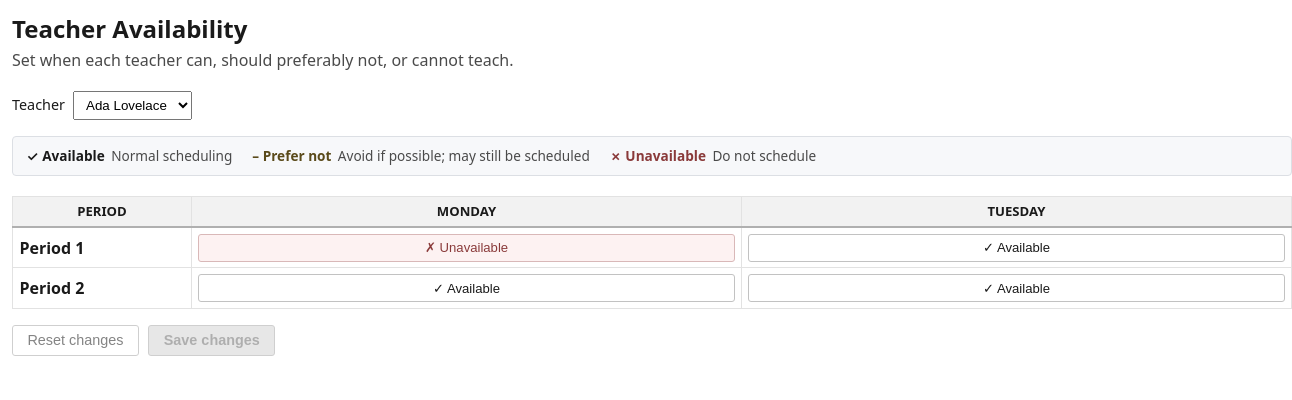
Scenario: TeacherAvailabilityPage › cycling a cell back to its authoritative state clears dirty
This screenshot has width=1292, height=400.
Expected: the dropdown labelled "Teacher" is shown, top-left (73, 91), bottom-right (192, 120)
Expected: the button "Save changes" is disabled, top-left (148, 325), bottom-right (275, 356)
Click the button with aria-label "Monday, Period 2.": (466, 288) top-left (198, 274), bottom-right (735, 302)
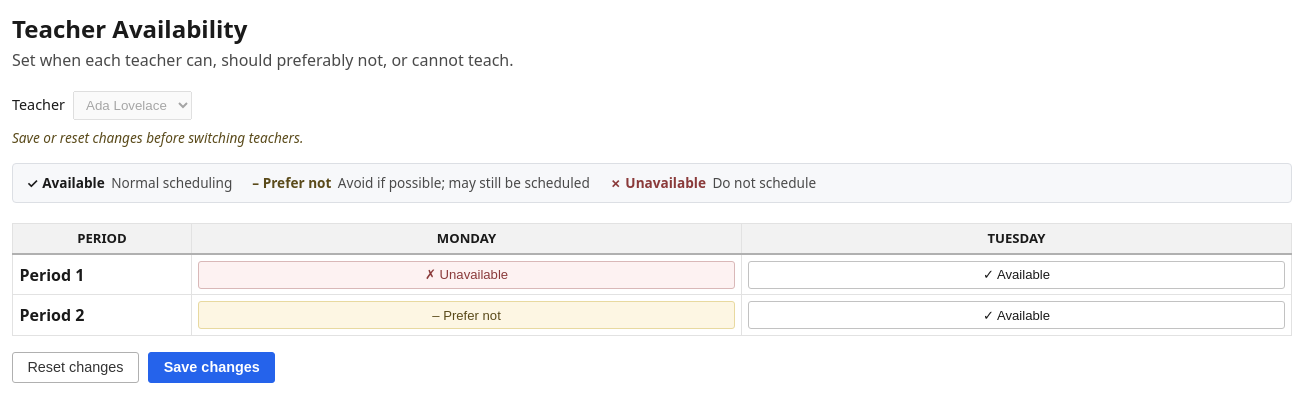
Now the button "Save changes" is enabled, box top-left (148, 352), bottom-right (275, 382)
Click the button with aria-label "Monday, Period 2.": (466, 315) top-left (198, 301), bottom-right (735, 329)
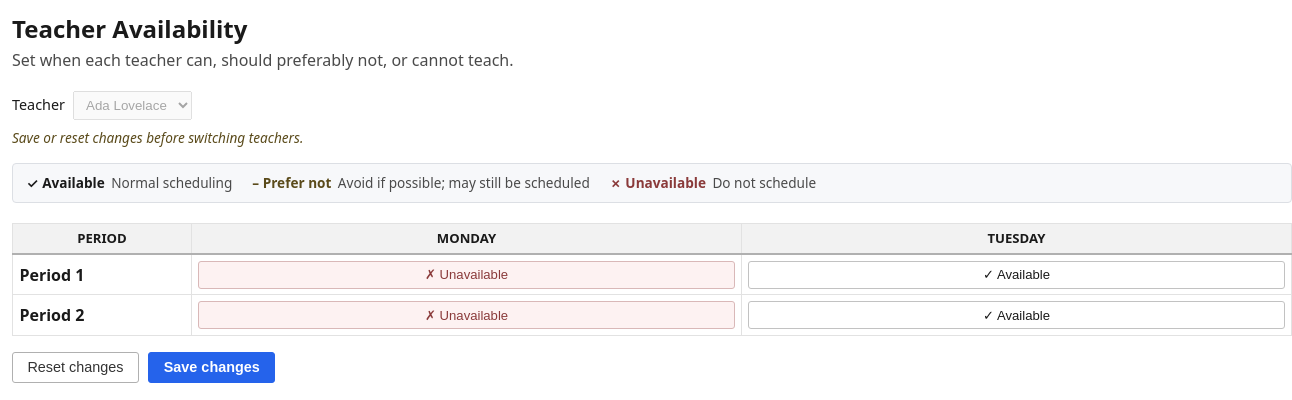
Click the button with aria-label "Monday, Period 2.": (466, 315) top-left (198, 301), bottom-right (735, 329)
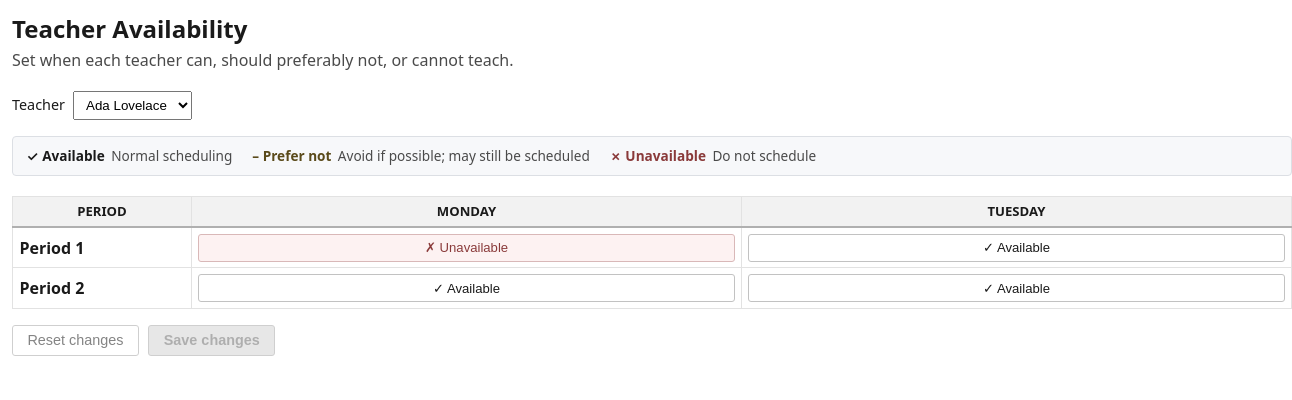
Now the button "Save changes" is disabled, box top-left (148, 325), bottom-right (275, 356)
